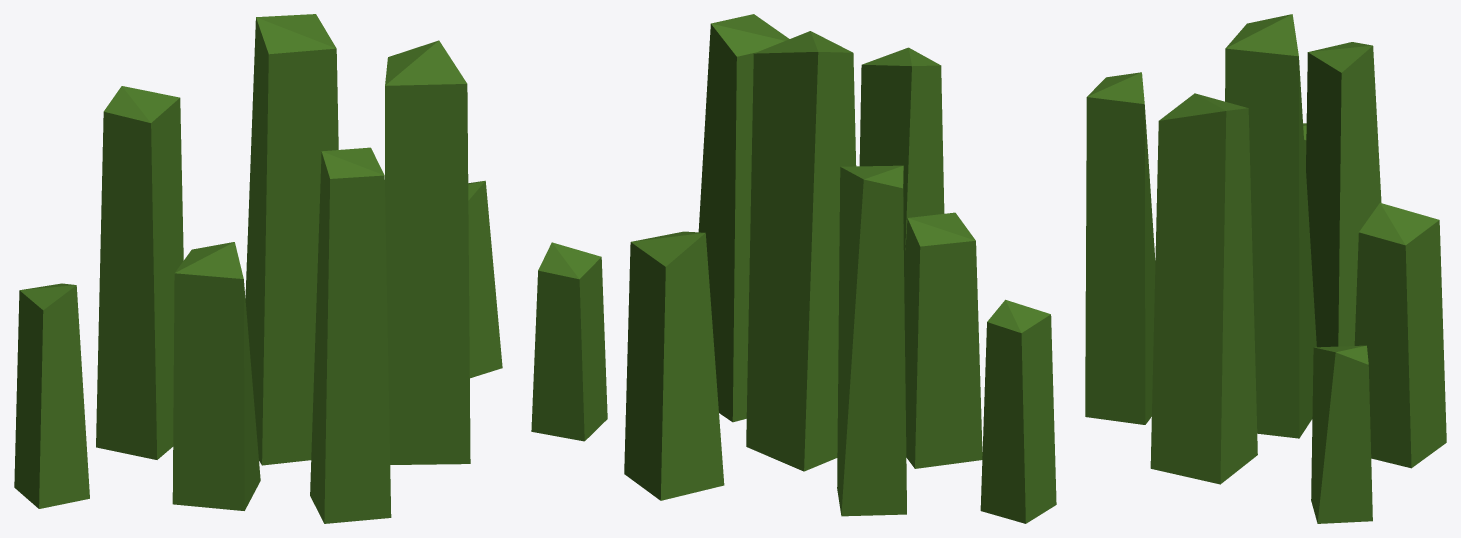
File: Grass-Db4UVcNWnF.glb
3 renders of one model, left to right at view 1: azimuth 30°, elevation 25°; view 2: azimuth 150°, elevation 25°; view 3: azimuth 270°, elevation 25°, orthographic. The views are drawn at different scales.
Visible parts, largest first — view 1: Grass_2; view 2: Grass_2; view 3: Grass_2.
Part boxes in pixels (x1,y1,x2,y2): Grass_2: [14, 14, 502, 523]; Grass_2: [531, 14, 1056, 523]; Grass_2: [1085, 14, 1446, 523].
Size of the model in its own units: 1.7 by 1.4 by 1.17.
1 material, 1 textured.
